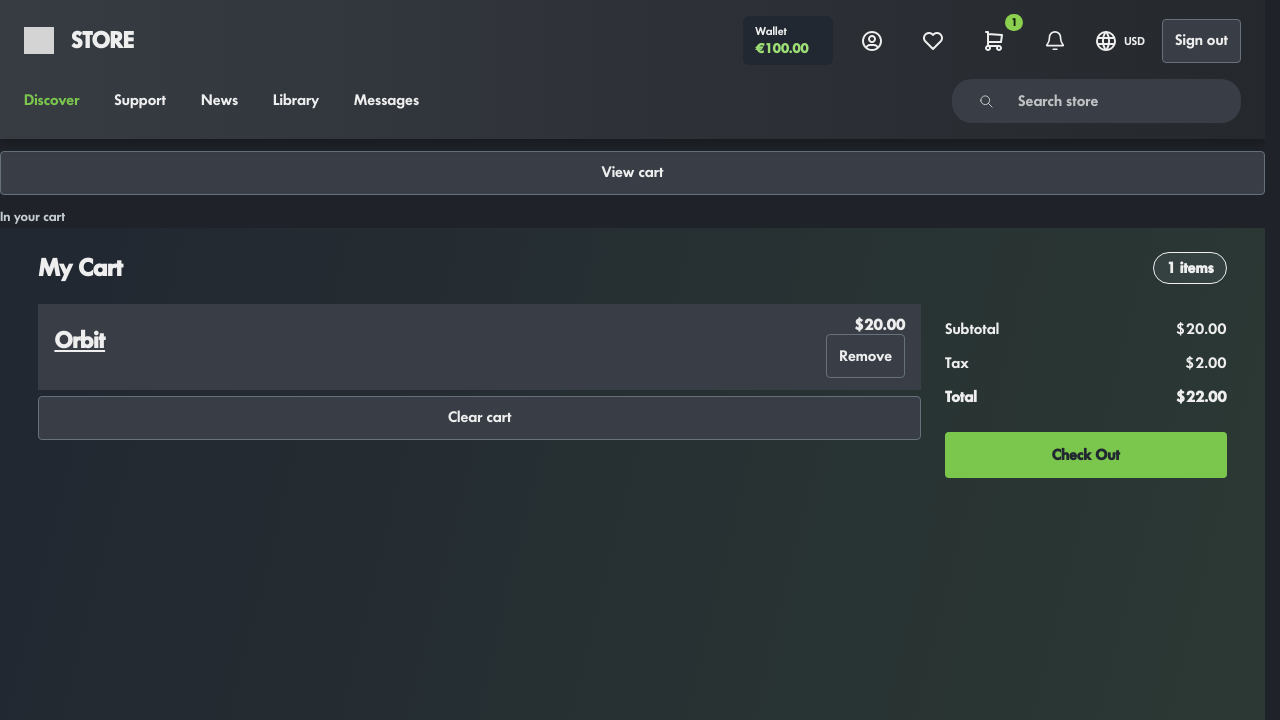
Scenario: blocks unsafe wallet payments and still allows choosing a bank card ({"balance":"100.00","currency":"EUR","is_frozen":false})
This screenshot has width=1280, height=720.
Later steps or results of the test are not shown.
Click the button "Check Out" at (1086, 455), box [945, 432, 1227, 478]
(page scrolled)
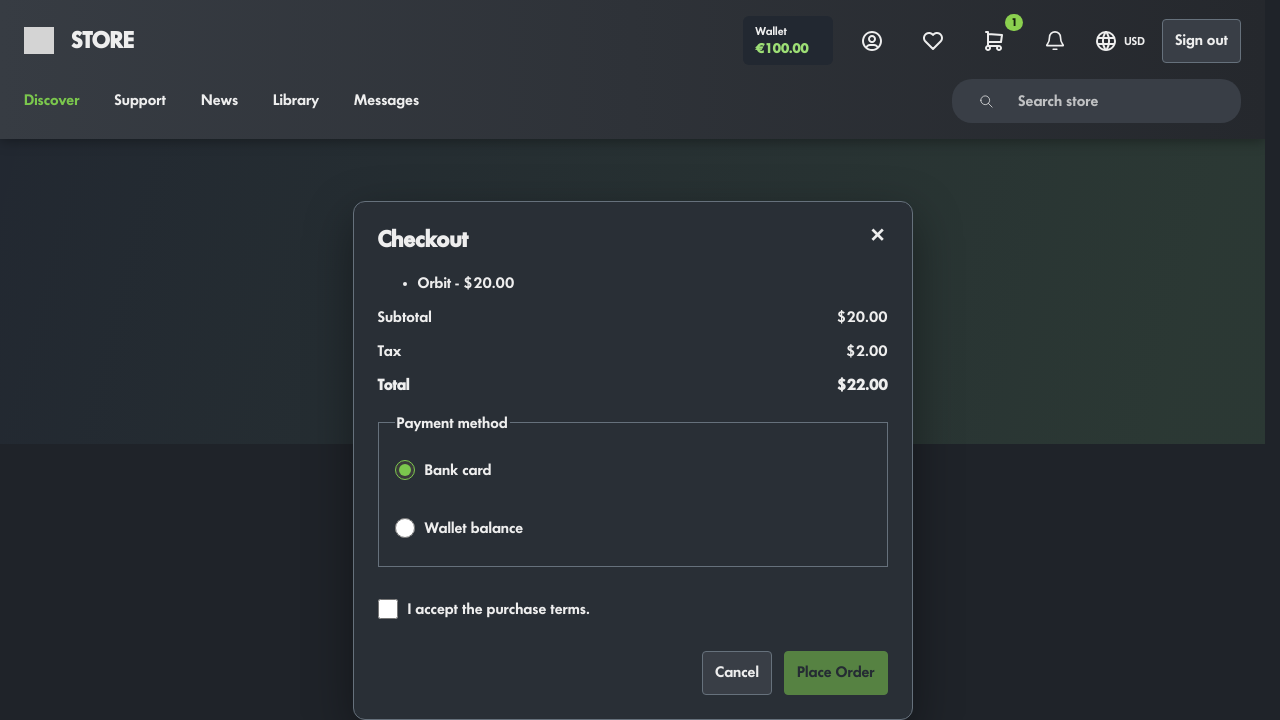
Click the radio button labelled "Wallet balance" at (404, 528), box [394, 518, 414, 538]
(page scrolled)
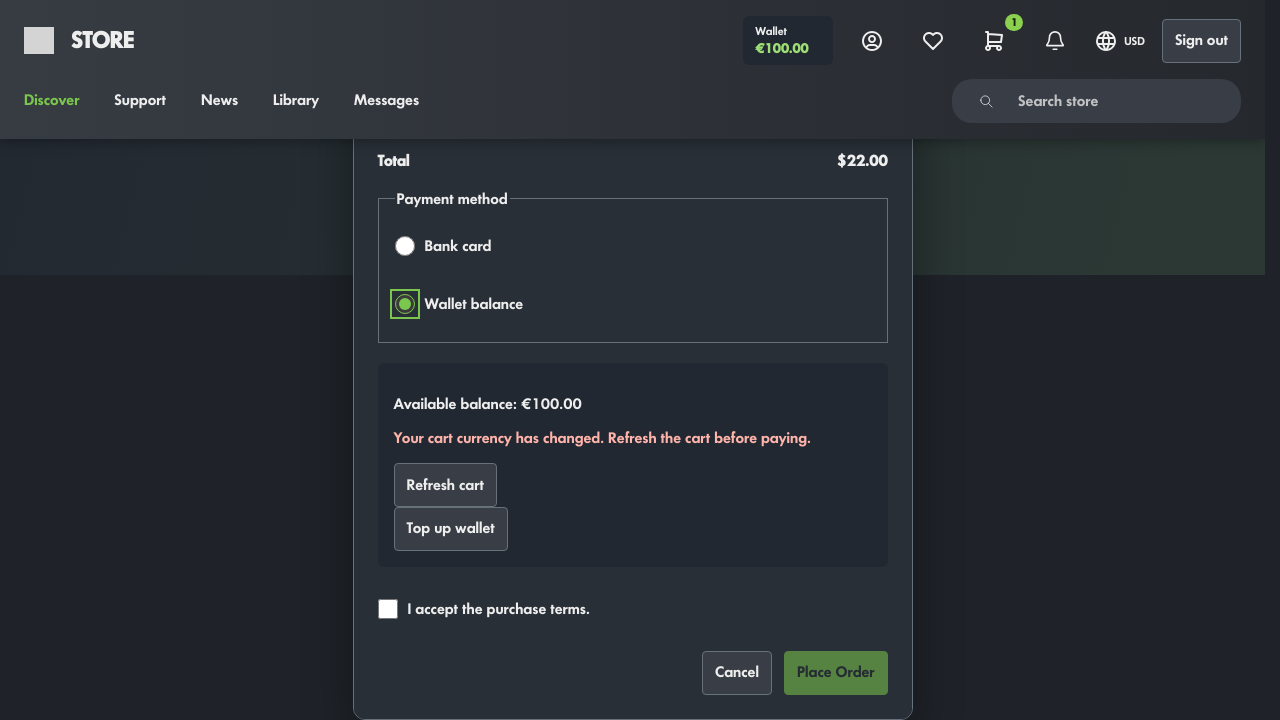
Click the checkbox at (388, 609), box [378, 599, 398, 619]
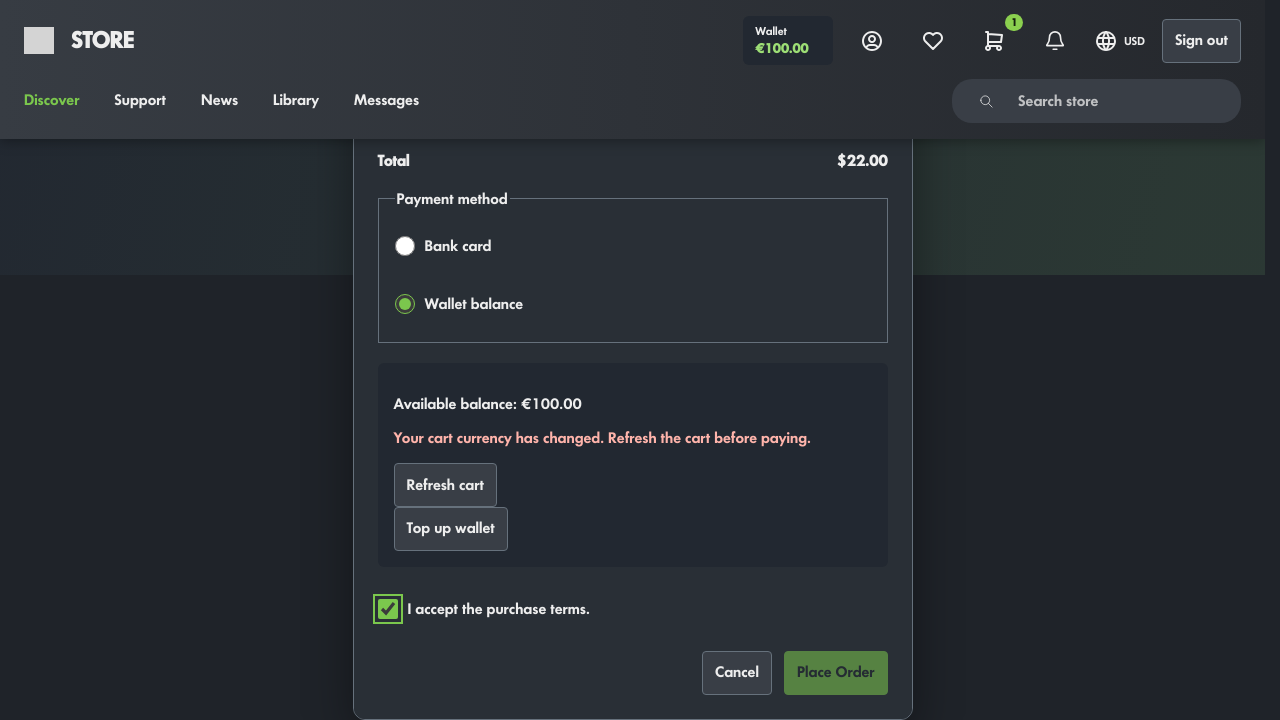
expect the text "Your cart currency has changed. Refresh the cart before paying." is shown: met, box [394, 429, 872, 447]
expect the button "Place Order" is disabled: met
Click the button "Place Order" at (836, 673), box [784, 651, 888, 695]
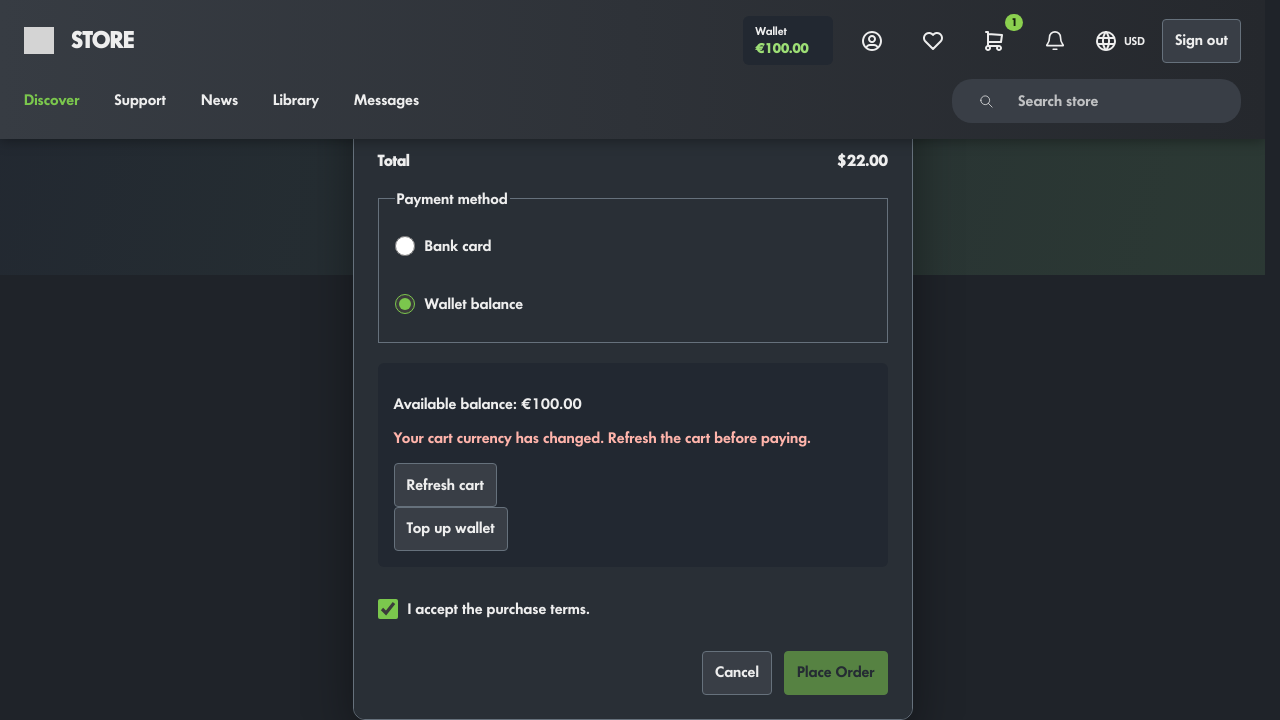
Click the radio button labelled "Bank card" at (404, 246), box [394, 236, 414, 256]
(page scrolled)
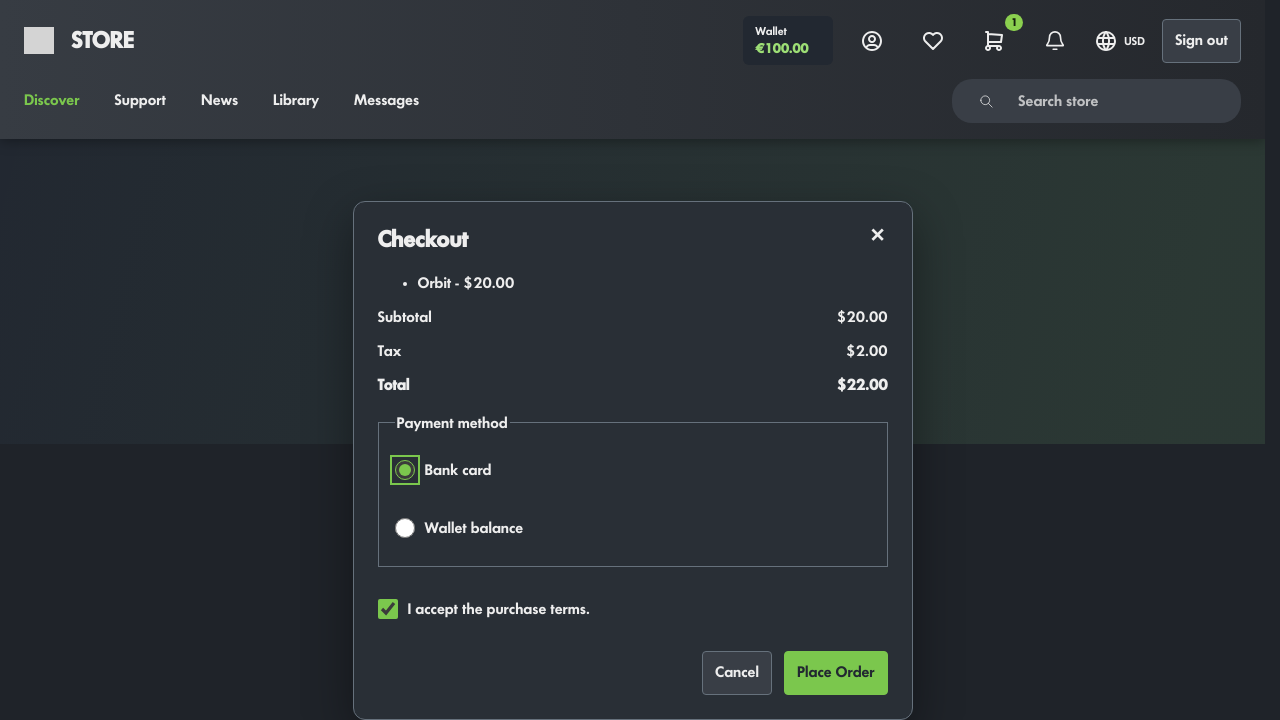
expect the button "Place Order" is enabled: met, box [784, 651, 888, 695]
